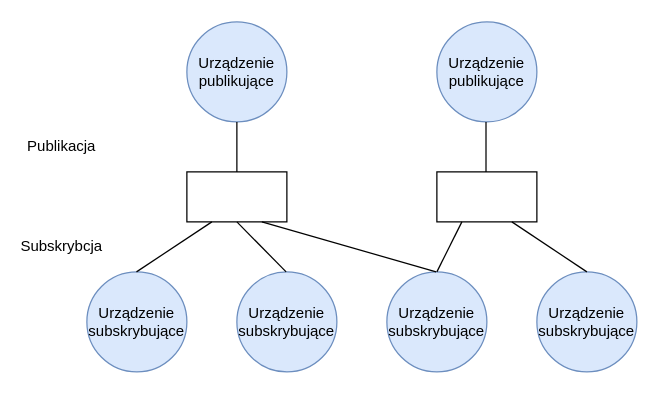
This 659x394 diagram has some shape labels left out. The box of each missing label's shape, as (x1, y1, x2, y2) in pixels:
Grupa 1: (186, 171, 287, 222)
Grupa 2: (436, 171, 537, 222)
